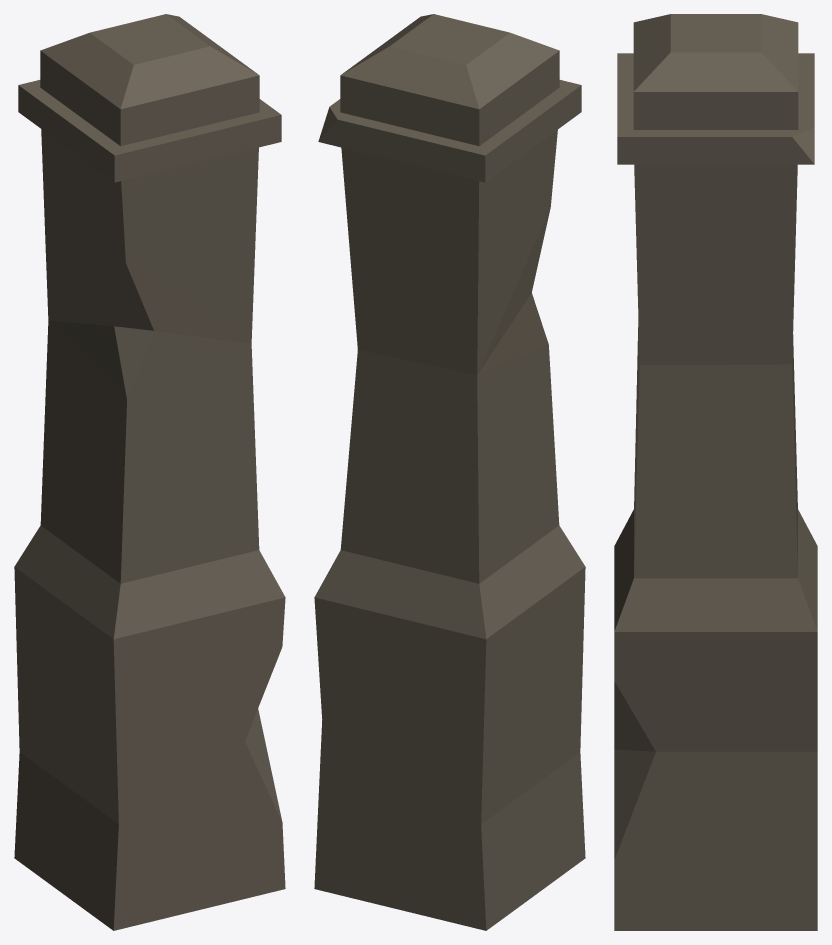
File: CemeteryPillar.fbx
The picture shows the model from 3 angles, left to right: view 1: azimuth 30°, elevation 25°; view 2: azimuth 150°, elevation 25°; view 3: azimuth 270°, elevation 25°; orthographic projection. The views are drawn at different scales.
Parts seen in each view (by area): view 1: CemeteryPillar; view 2: CemeteryPillar; view 3: CemeteryPillar.
Part boxes in pixels (x1,y1,x2,y2): CemeteryPillar: (14,14,285,930); CemeteryPillar: (314,14,585,930); CemeteryPillar: (614,14,817,930).
Bounding box in the file's own units: 52.37 × 243 × 52.37.
